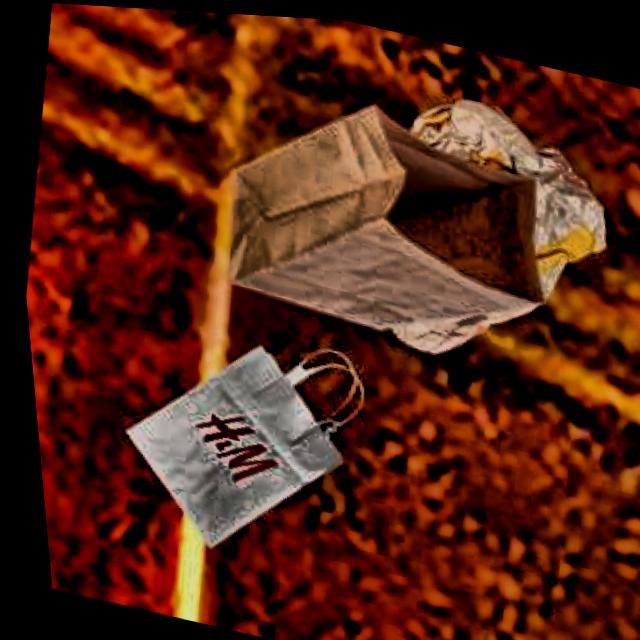Paper-bag: (175, 73, 573, 390), (319, 73, 639, 404), (77, 287, 384, 582)
